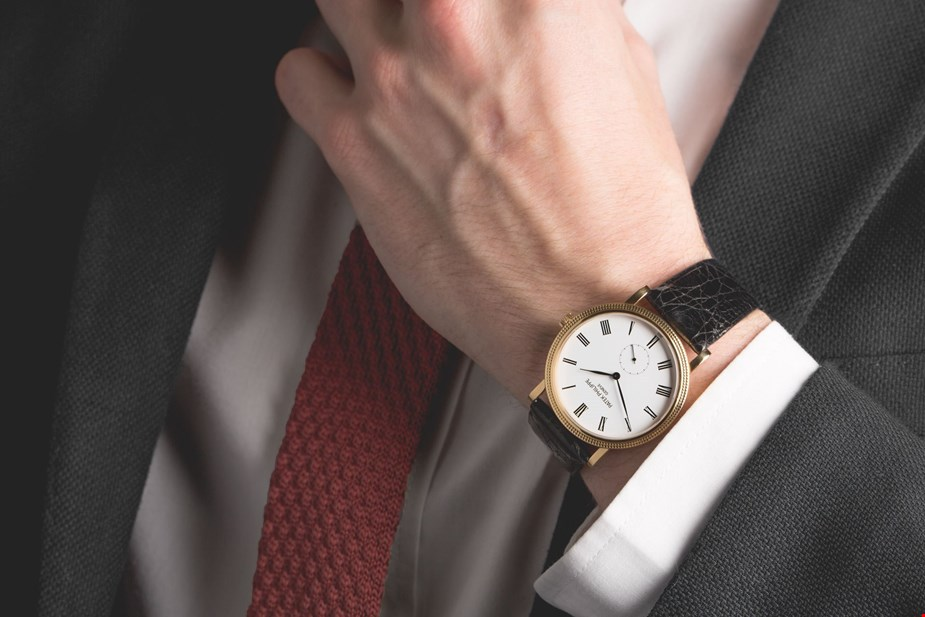clock: (552, 312, 682, 442)
